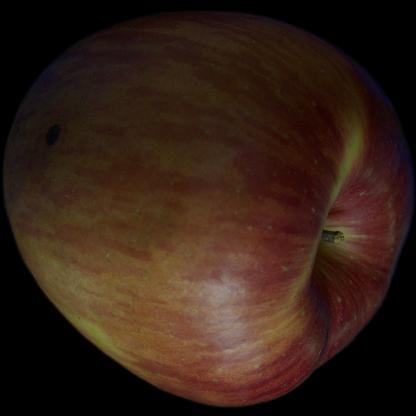defect: (22, 98, 86, 164)
